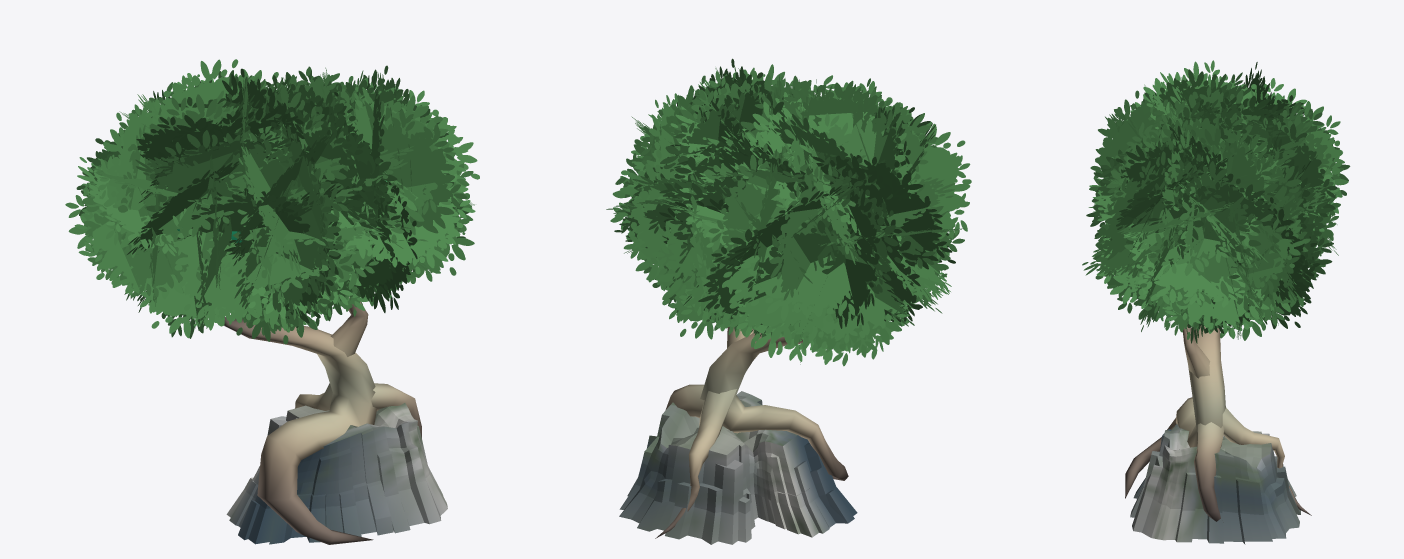
File: Tree2.fbx
3 views of the same model, side by side, from view 1: azimuth 30°, elevation 25°; view 2: azimuth 150°, elevation 25°; view 3: azimuth 270°, elevation 25° (orthographic). The views are drawn at different scales.
Parts seen in each view (by area): view 1: tree; view 2: tree; view 3: tree.
Boxes of the visible parts, bbox=[...] form: tree: bbox=[65, 59, 479, 544]; tree: bbox=[606, 58, 971, 544]; tree: bbox=[1082, 60, 1350, 544].
Size of the model in its own units: 544 by 609 by 439.
